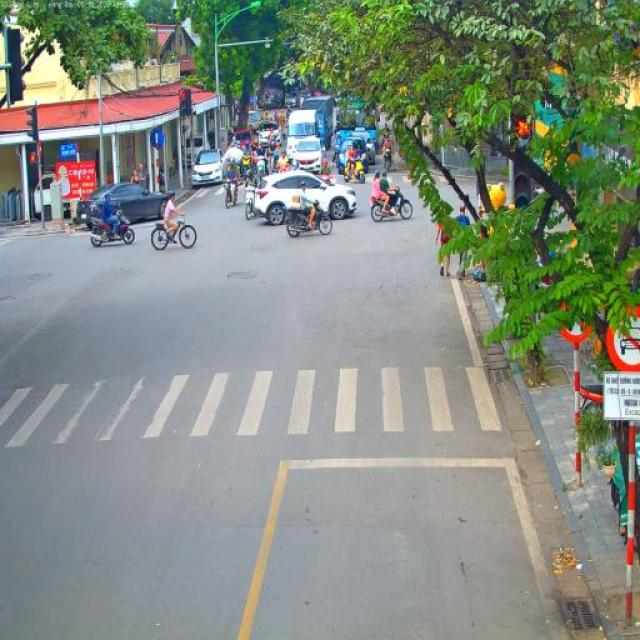car: (252, 170, 358, 226), (76, 180, 174, 230), (191, 148, 225, 188), (292, 136, 324, 175), (338, 137, 368, 174), (352, 130, 376, 166), (258, 121, 280, 148), (232, 129, 256, 149), (284, 96, 298, 110)
motorcycle: (284, 198, 334, 238), (86, 208, 135, 248), (369, 187, 413, 222), (344, 157, 366, 184), (244, 181, 258, 220), (224, 177, 240, 208), (240, 156, 254, 183), (381, 147, 393, 174), (332, 144, 342, 168), (256, 159, 266, 180), (274, 164, 288, 174), (320, 173, 332, 184), (272, 153, 280, 169)
truck: (300, 96, 336, 149), (34, 171, 70, 223), (285, 109, 319, 162), (338, 108, 367, 138), (180, 137, 204, 168), (246, 110, 262, 140)
